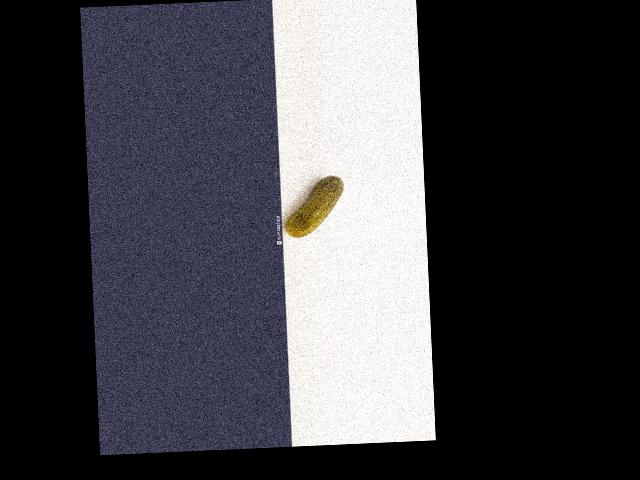cucumber: (283, 174, 345, 238)
